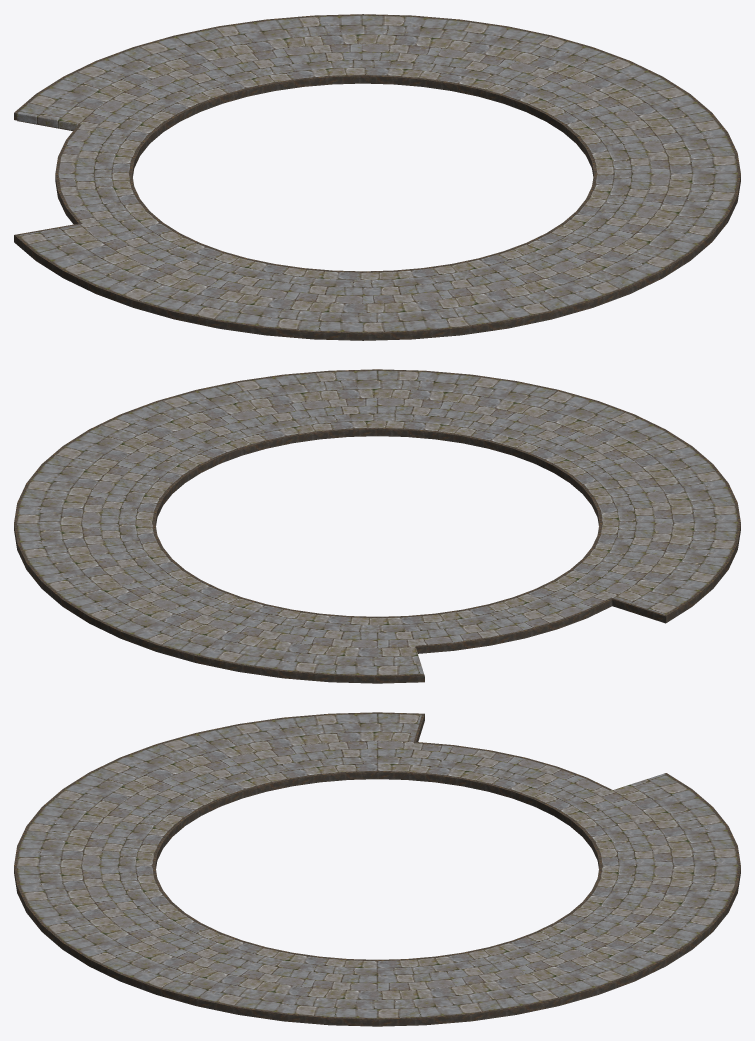
The picture shows the model from 3 angles, top to bottom: view 1: azimuth 30°, elevation 25°; view 2: azimuth 150°, elevation 25°; view 3: azimuth 270°, elevation 25°; orthographic projection. The views are drawn at different scales.
Visible parts, largest first — view 1: SM_Library_Balcony_A_LOD0; view 2: SM_Library_Balcony_A_LOD0; view 3: SM_Library_Balcony_A_LOD0.
Boxes of the visible parts, x1,y1,x2,y2 form: SM_Library_Balcony_A_LOD0: (14, 14, 740, 340); SM_Library_Balcony_A_LOD0: (14, 369, 740, 683); SM_Library_Balcony_A_LOD0: (14, 712, 740, 1026).
Bounding box in the file's own units: 38.35 × 0.4565 × 38.35.
3 materials, 3 textured.
